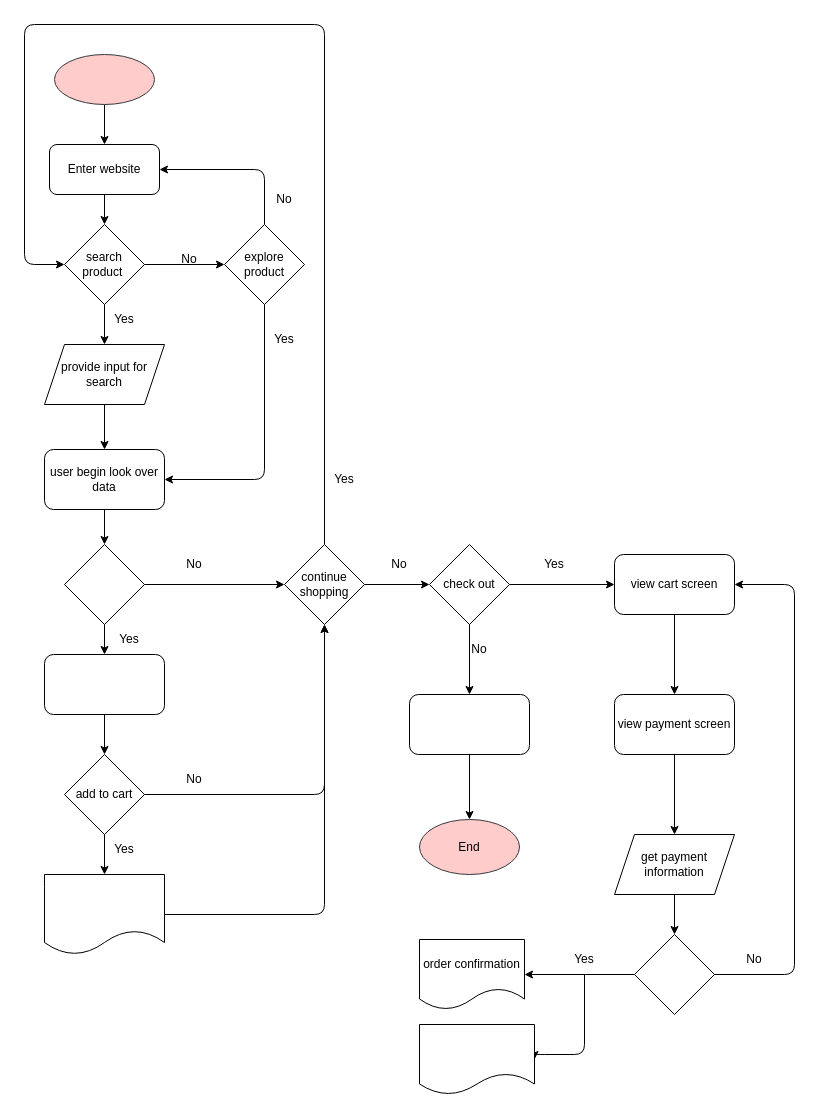
Image size: 820x1112. Some labels were removed from this diagram. Here are the shapes that lost their labels. From the top down, the box of each, then its label:
(54, 54, 154, 104): Start
(64, 544, 144, 624): view specifc product
(44, 654, 164, 714): open product page
(408, 694, 530, 754): user leaves the page
(44, 874, 164, 954): add to cart confirmation
(634, 934, 714, 1014): pay
(418, 1024, 534, 1094): recive an email
